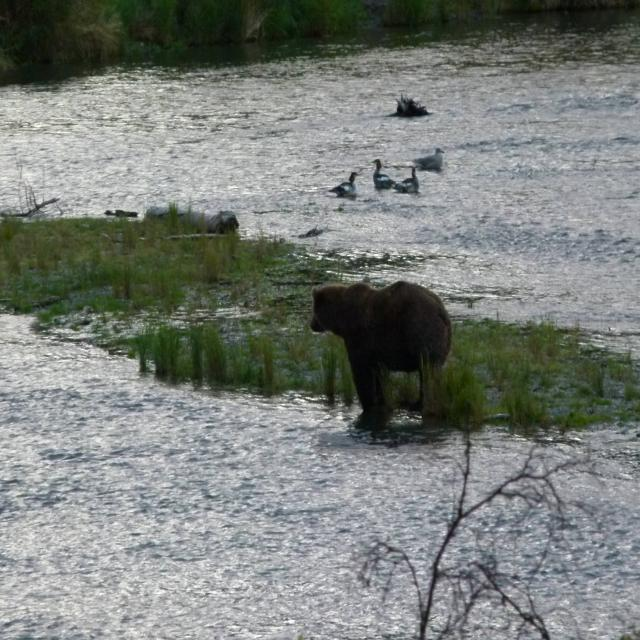bear face: (309, 281, 451, 423)
